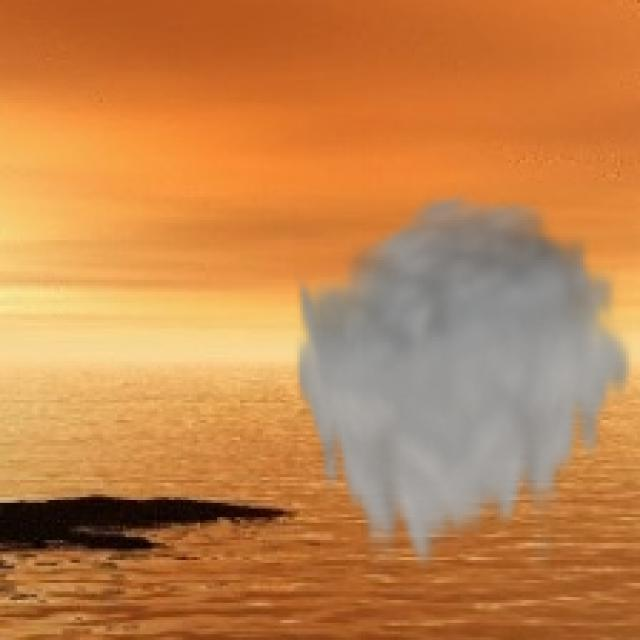smoke: (292, 186, 637, 583)
